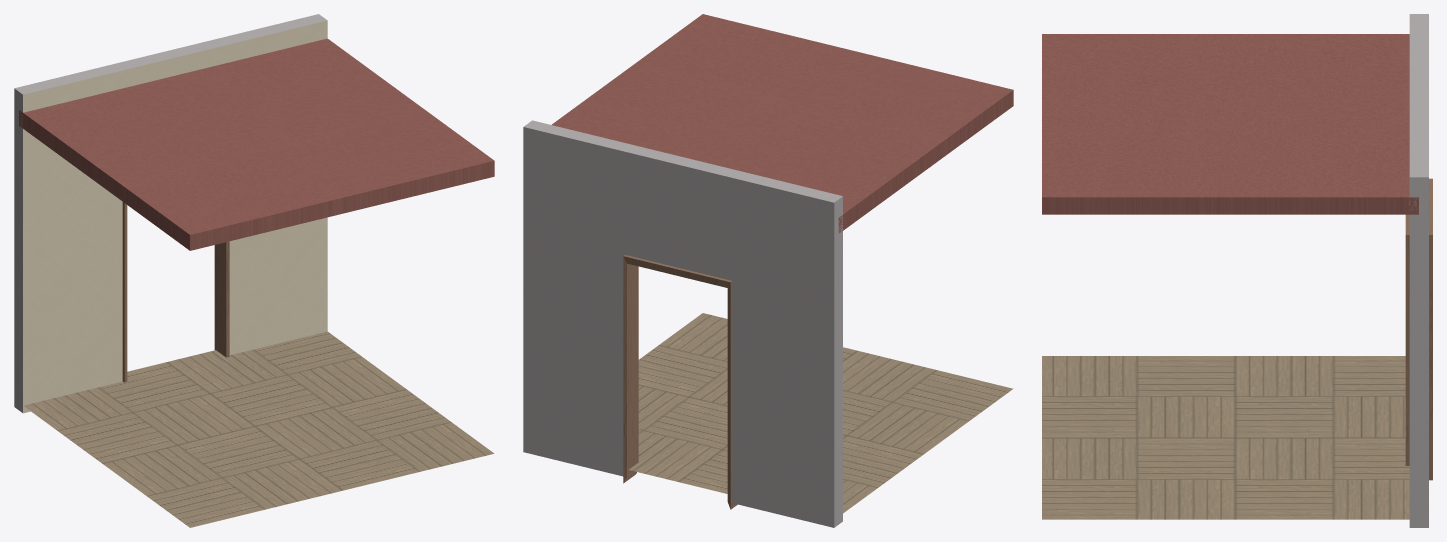
File: house_w1_door.fbx
The picture shows the model from 3 angles, left to right: view 1: azimuth 30°, elevation 25°; view 2: azimuth 150°, elevation 25°; view 3: azimuth 270°, elevation 25°; orthographic projection. The views are drawn at different scales.
Visible parts, largest first — view 1: wall_1_door.001; view 2: wall_1_door.001; view 3: wall_1_door.001.
Part boxes in pixels (box(x1,y1,x2,y2)): wall_1_door.001: box(14, 14, 494, 527); wall_1_door.001: box(523, 14, 1013, 527); wall_1_door.001: box(1042, 14, 1432, 527).
Bounding box in the file's own units: 2 × 2.03 × 2.02.
2 materials, 2 textured.
